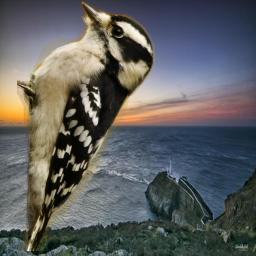Woodpecker: (17, 1, 155, 251)
